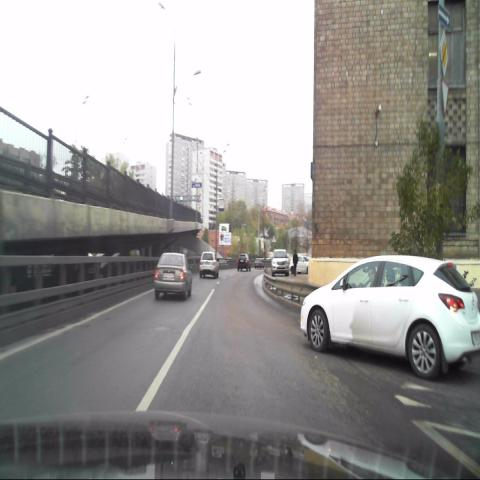2_2: (436, 31, 451, 77)
2_4: (438, 75, 450, 113)
5_7_1: (435, 3, 454, 30)
